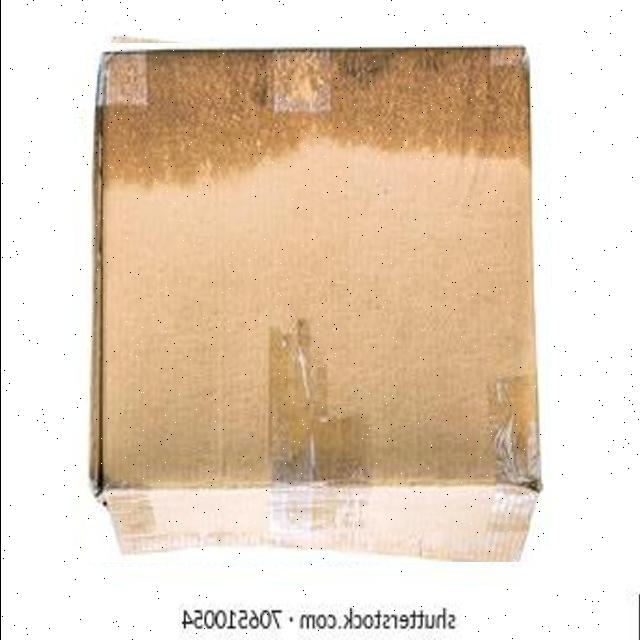defect: (85, 43, 543, 562)
